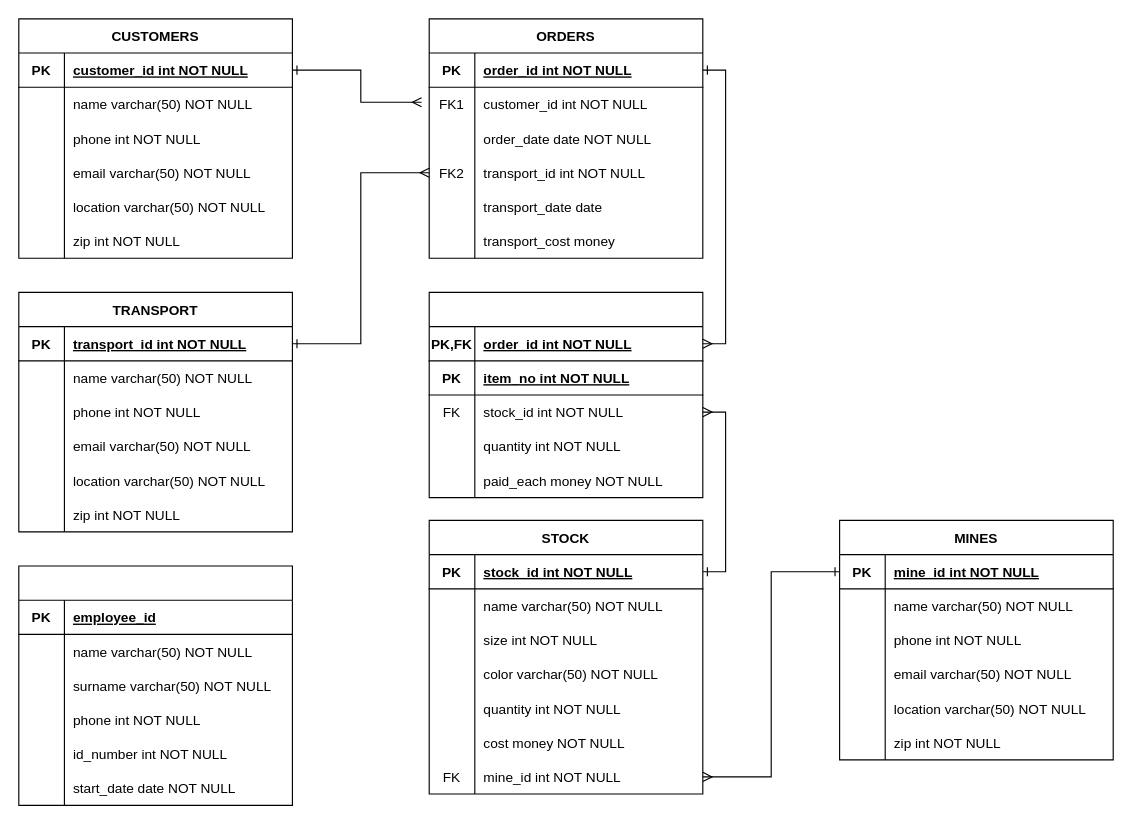
The diagram is 1132 pixels wide and 824 high, and some of its shapes have lost their labels. The box of each missing label's shape, as (x1, y1, x2, y2) in pixels:
EMPLOYEES: (18, 565, 292, 805)
ORDERITEMS: (428, 291, 703, 498)
